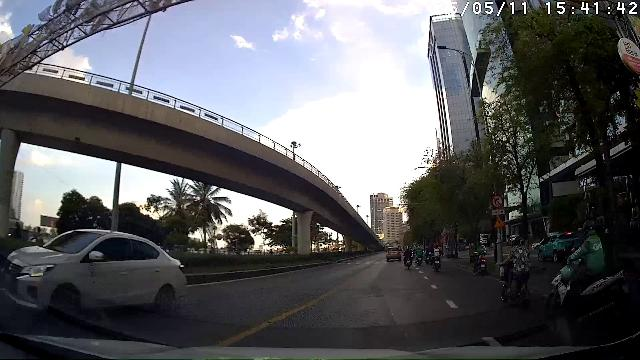103b-cam-oto-re-phai: (491, 195, 504, 209)
